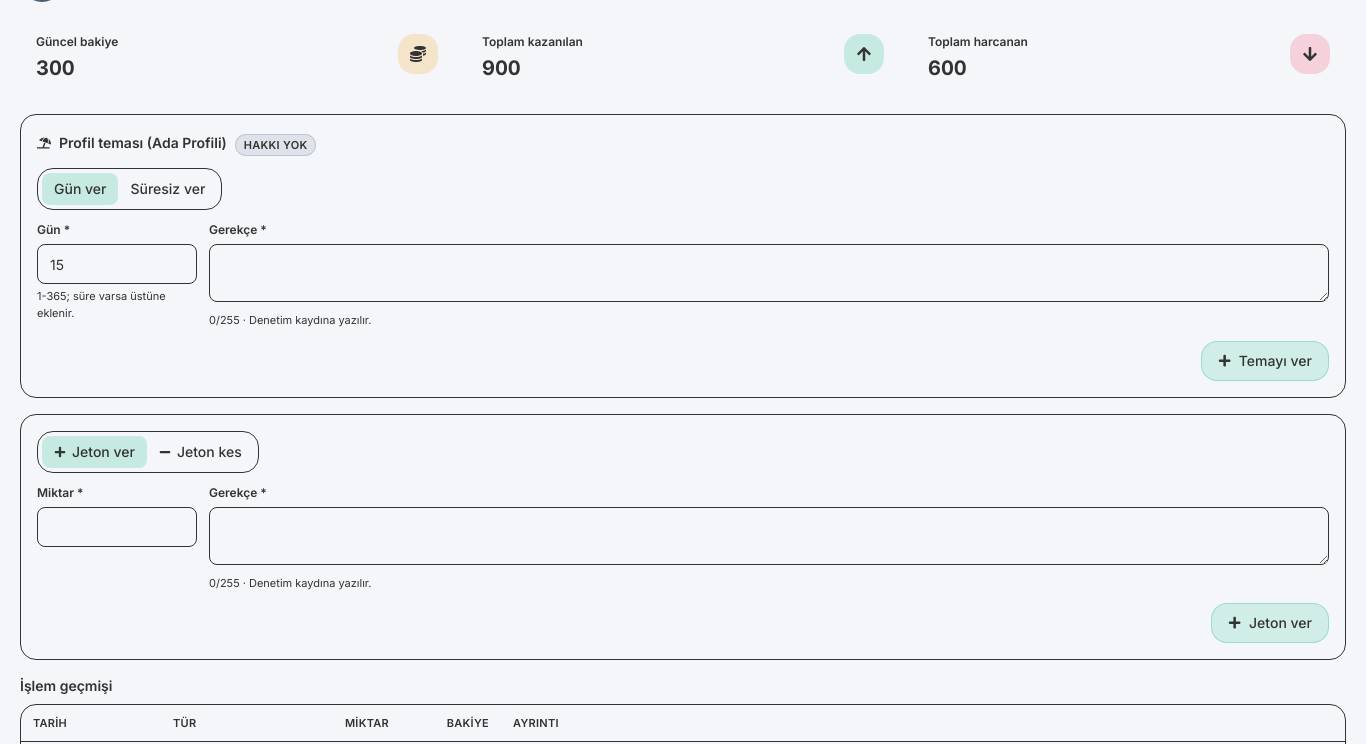
Test: GameCoins › Profil teması › gün ver: gerekçe zorunlu; onay penceresi kullanıcıyı ve süreyi yazar; onayla POST atar ve liste tazelenir
The width and height of the screenshot is (1366, 744).
(page scrolled)
Click the button "Temayı ver" at (1265, 360), box left=1200, top=340, right=1329, bottom=380
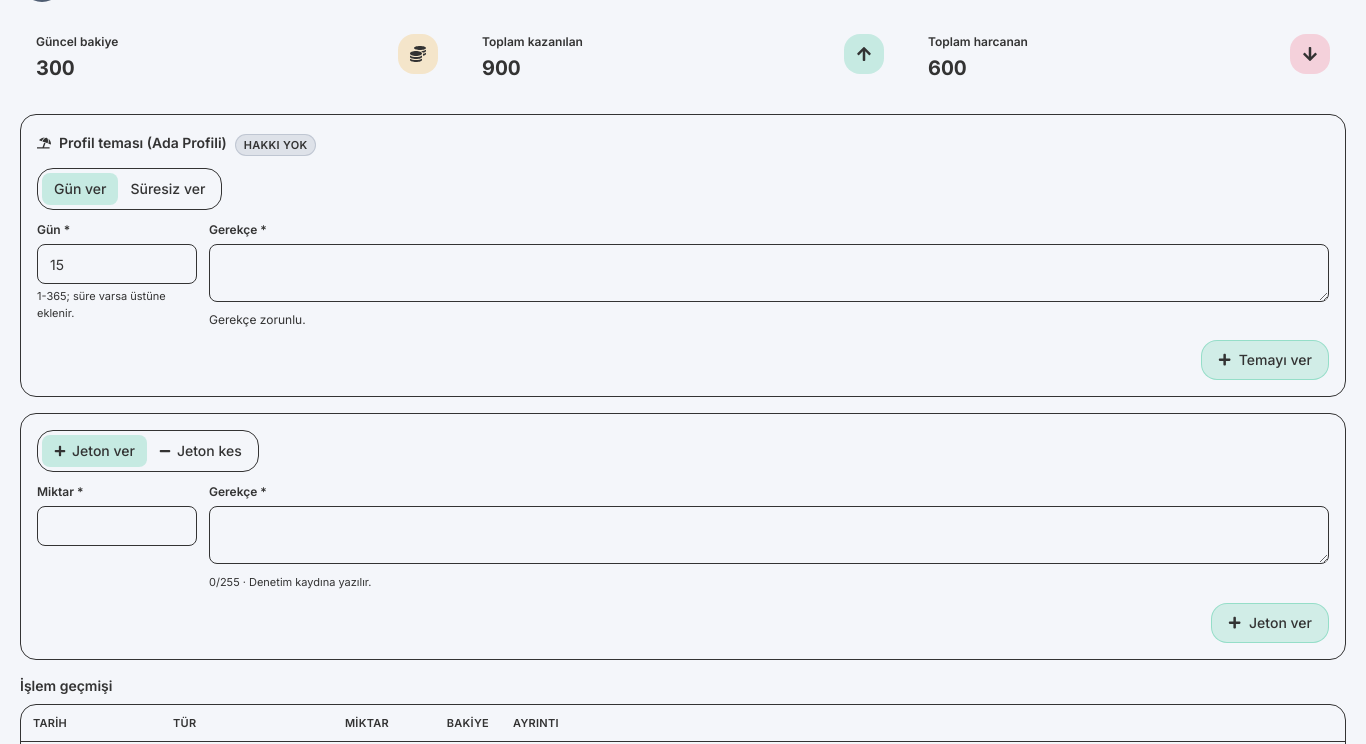
Result: the text "Gerekçe zorunlu." is shown at left=209, top=312, right=306, bottom=327
Replace the text in the number field labelled "Gün" with "0" at (117, 264), box left=37, top=244, right=197, bottom=284
Type "Yarışma ödülü" into the text box named "Tema gerekçesi" at (769, 273), box left=209, top=244, right=1329, bottom=302
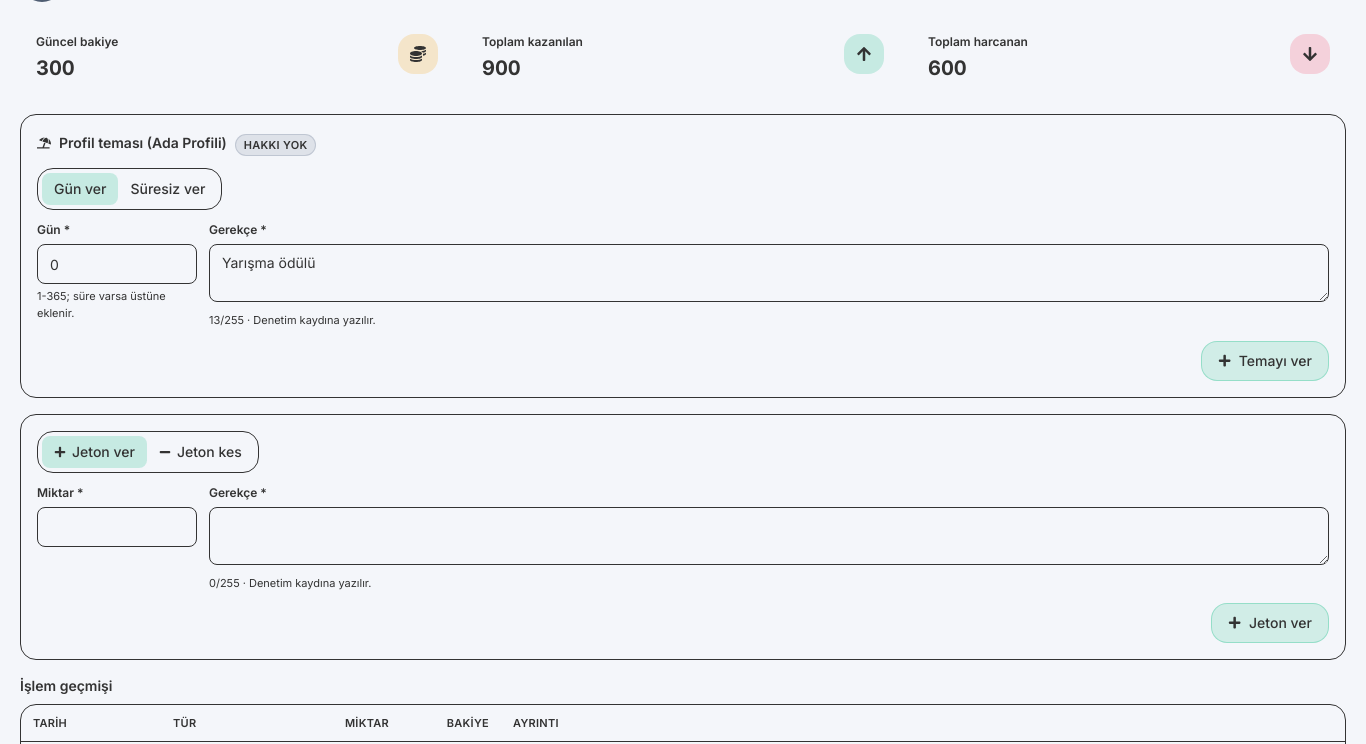
Click the button "Temayı ver" at (1265, 360), box left=1200, top=340, right=1329, bottom=380
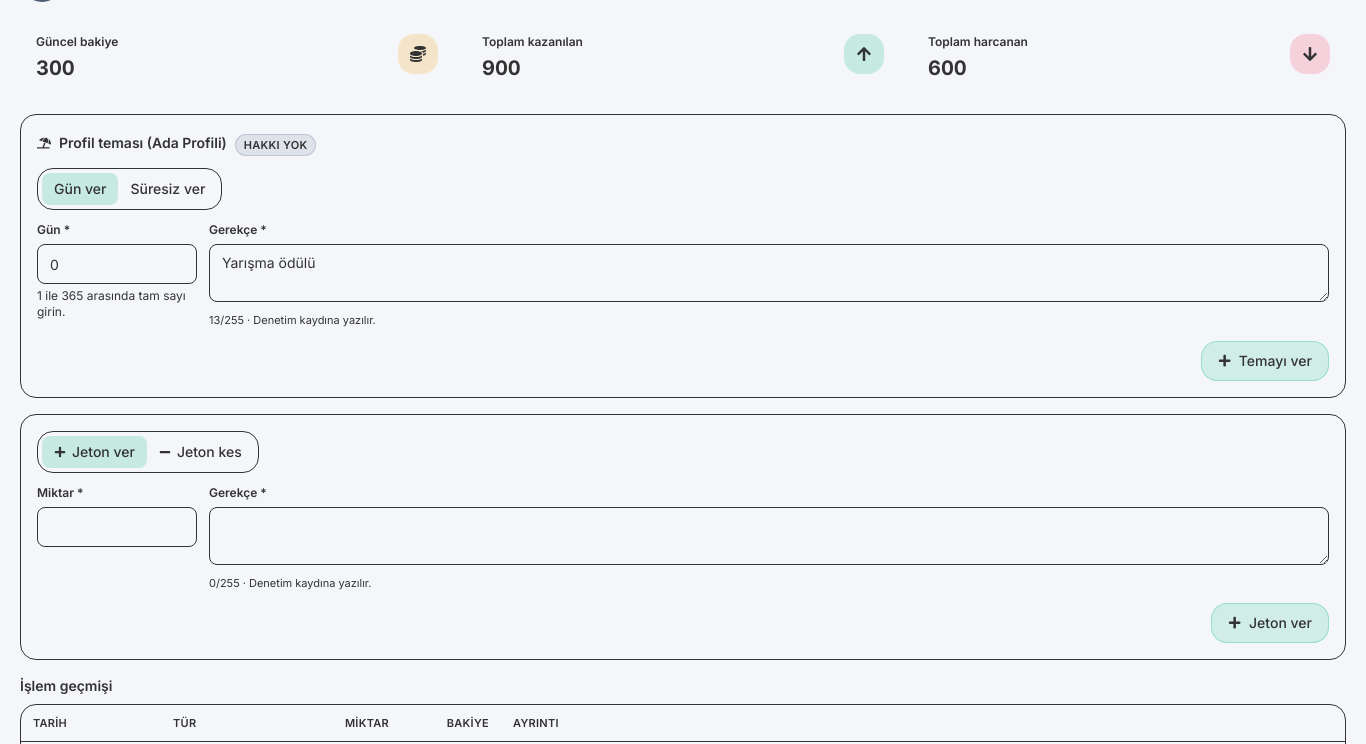
Result: the text "1 ile 365 arasında tam sayı girin." is shown at left=37, top=288, right=197, bottom=320
Replace the text in the number field labelled "Gün" with "30" at (117, 264), box left=37, top=244, right=197, bottom=284
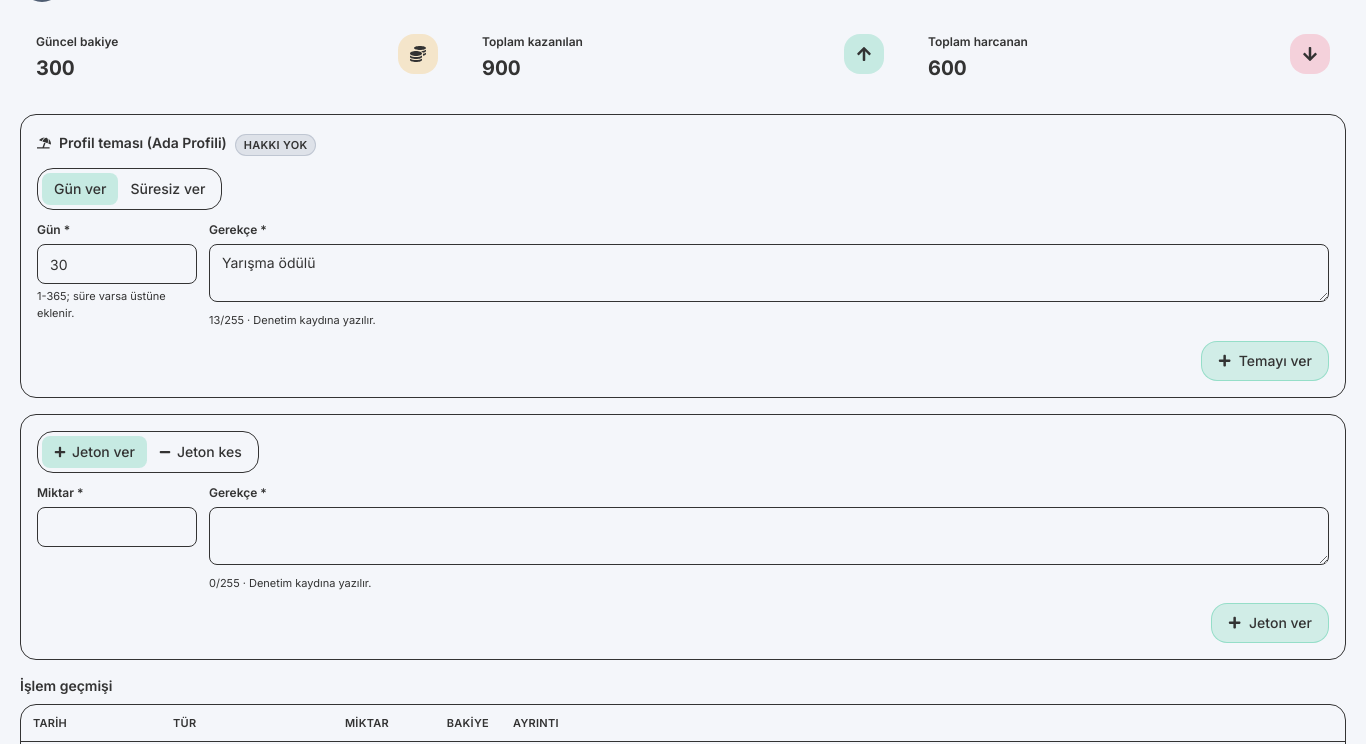
Click the button "Temayı ver" at (1265, 360), box left=1200, top=340, right=1329, bottom=380
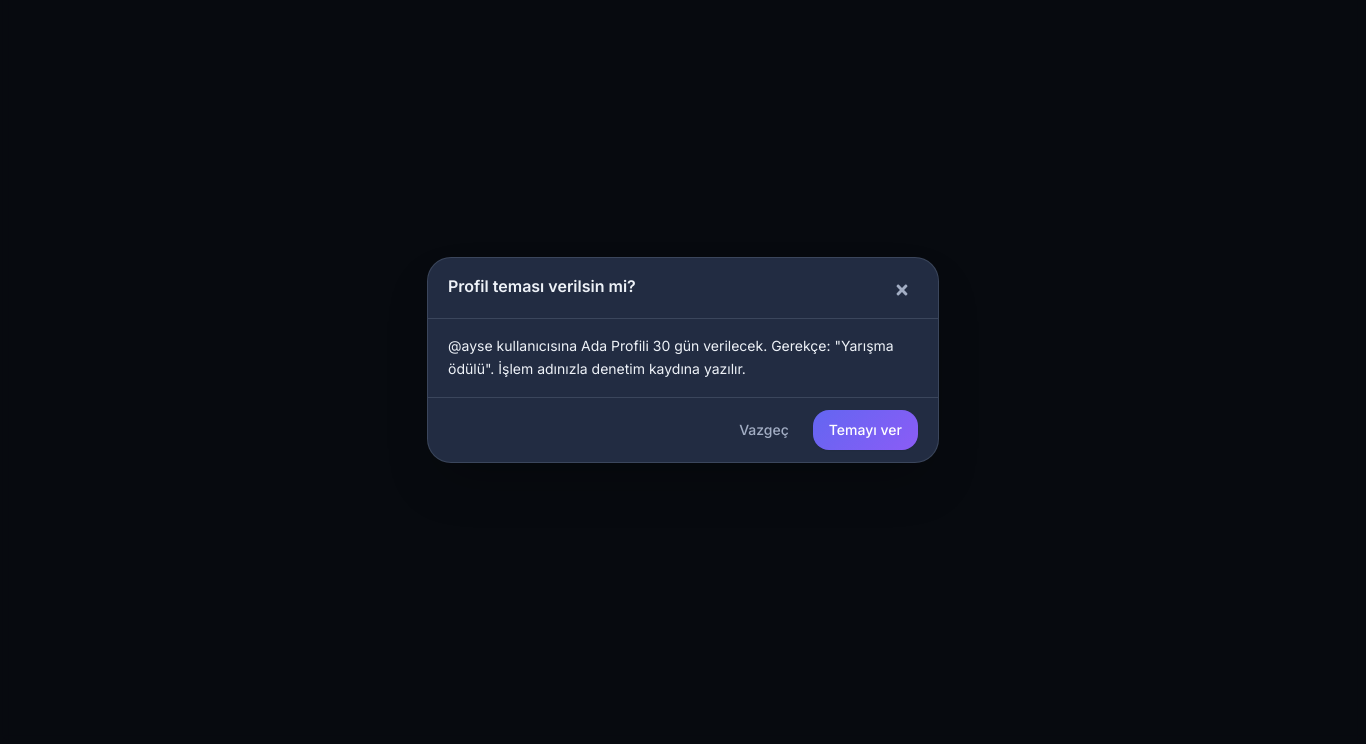
Result: the dialog shows "@ayse kullanıcısına Ada Profili 30 gün verilecek." at left=448, top=337, right=894, bottom=377
Result: the dialog shows "Yarışma ödülü" at left=448, top=337, right=894, bottom=377
Click the button with test id "confirm-button" at (865, 430), box left=813, top=410, right=918, bottom=450
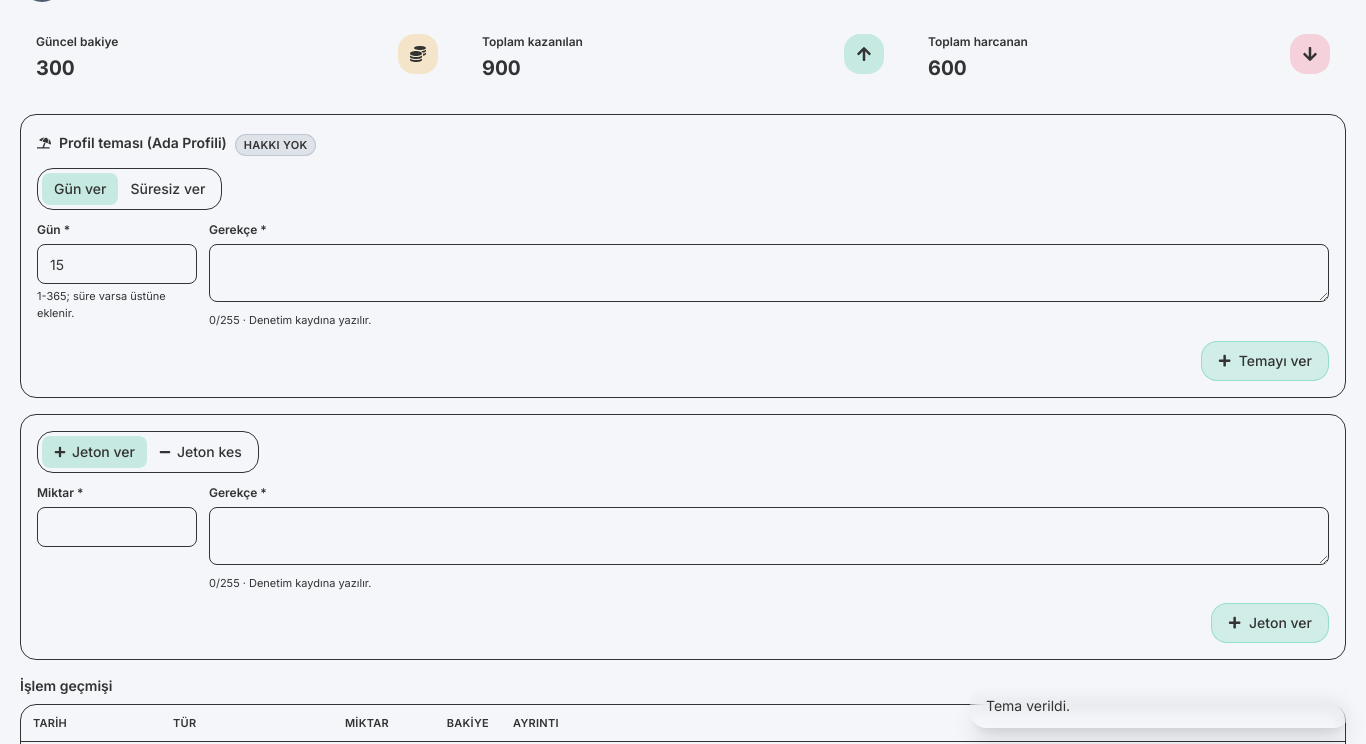
Result: the text "Tema verildi." is shown at left=970, top=684, right=1350, bottom=728
Result: the dialog is gone
Result: the text box named "Tema gerekçesi" is empty at left=209, top=244, right=1329, bottom=302
